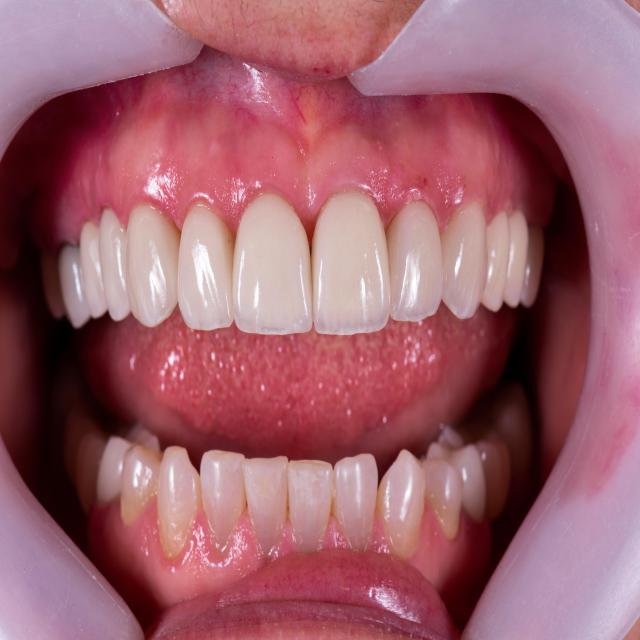Tooth: (311, 189, 391, 336), (232, 193, 313, 335), (177, 204, 235, 332), (124, 204, 181, 329), (386, 200, 443, 323), (440, 201, 489, 320), (376, 449, 426, 557), (426, 438, 487, 522), (157, 445, 202, 558), (200, 449, 247, 554), (242, 455, 289, 557), (331, 453, 378, 551), (287, 459, 334, 553), (98, 207, 131, 322), (121, 443, 164, 527), (423, 456, 464, 539), (58, 241, 92, 330), (481, 211, 510, 313), (79, 219, 108, 318), (505, 209, 529, 308)
